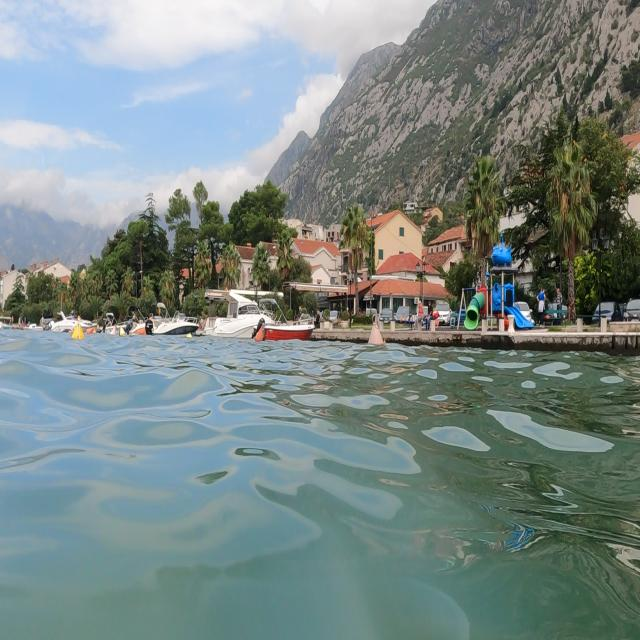boat: (203, 276, 278, 346), (256, 291, 318, 361), (146, 305, 211, 359)
buoy: (365, 311, 389, 356), (70, 311, 90, 348)
